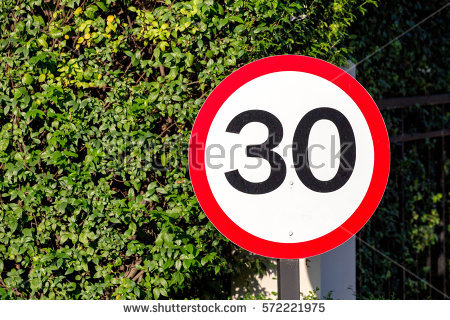Speed_limit_30km: (191, 54, 392, 259)
